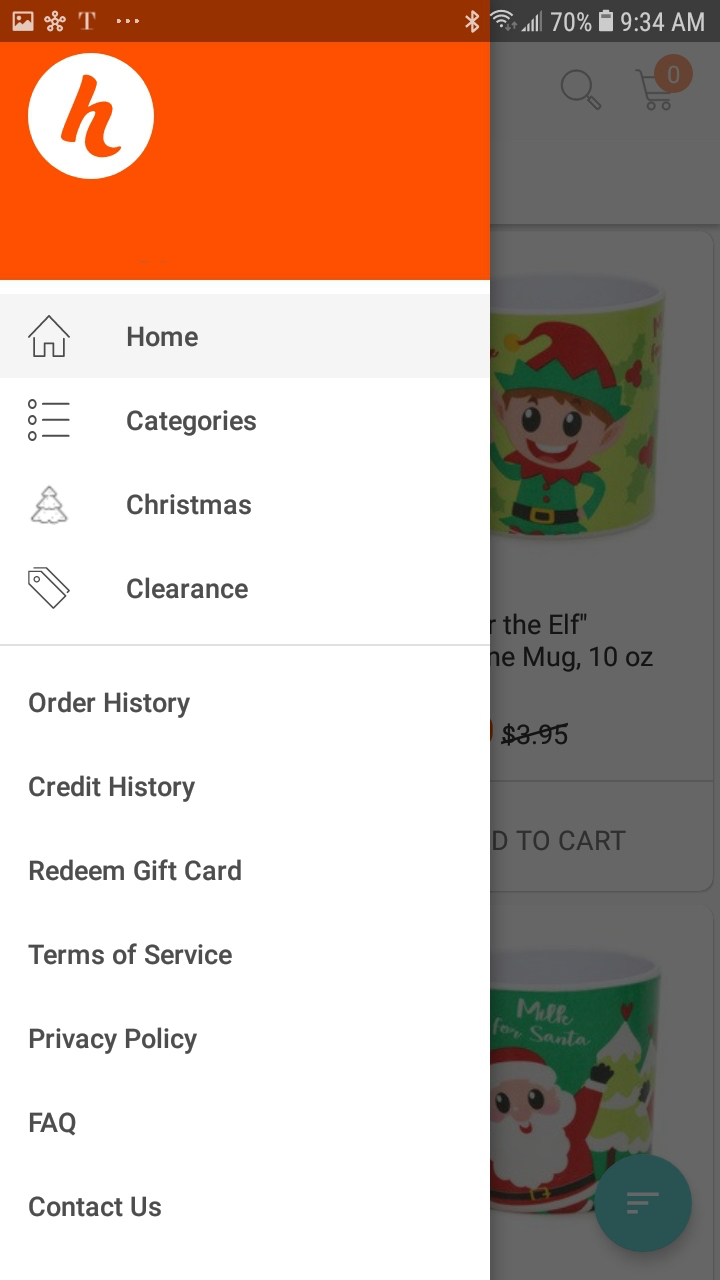Drawer: (1, 43, 491, 1280)
Icon: (28, 566, 72, 610), (28, 398, 71, 442), (29, 315, 72, 358)
Image: (28, 53, 156, 181), (31, 485, 69, 525)
Text: (30, 859, 242, 882), (29, 774, 196, 803), (29, 1027, 198, 1055), (28, 943, 233, 966), (28, 691, 191, 719), (127, 410, 258, 438), (29, 1195, 163, 1218), (127, 493, 252, 516), (127, 577, 249, 600), (128, 326, 199, 348), (31, 1111, 78, 1135)
UpperTaskBar: (1, 1, 719, 43)
